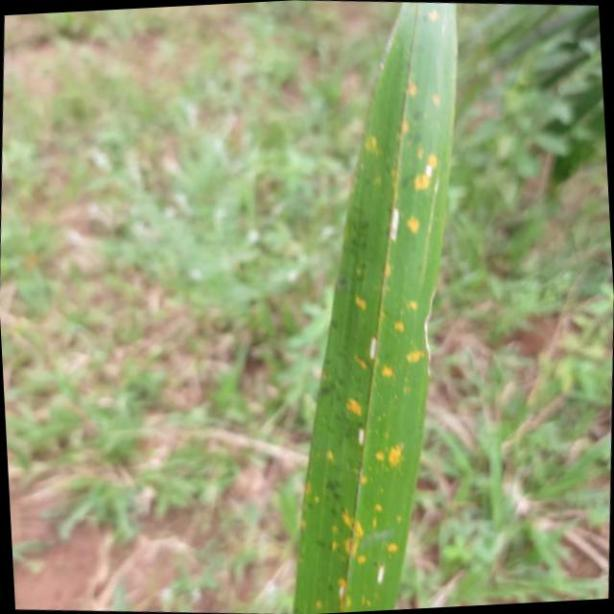Kalium: (291, 0, 461, 614)
